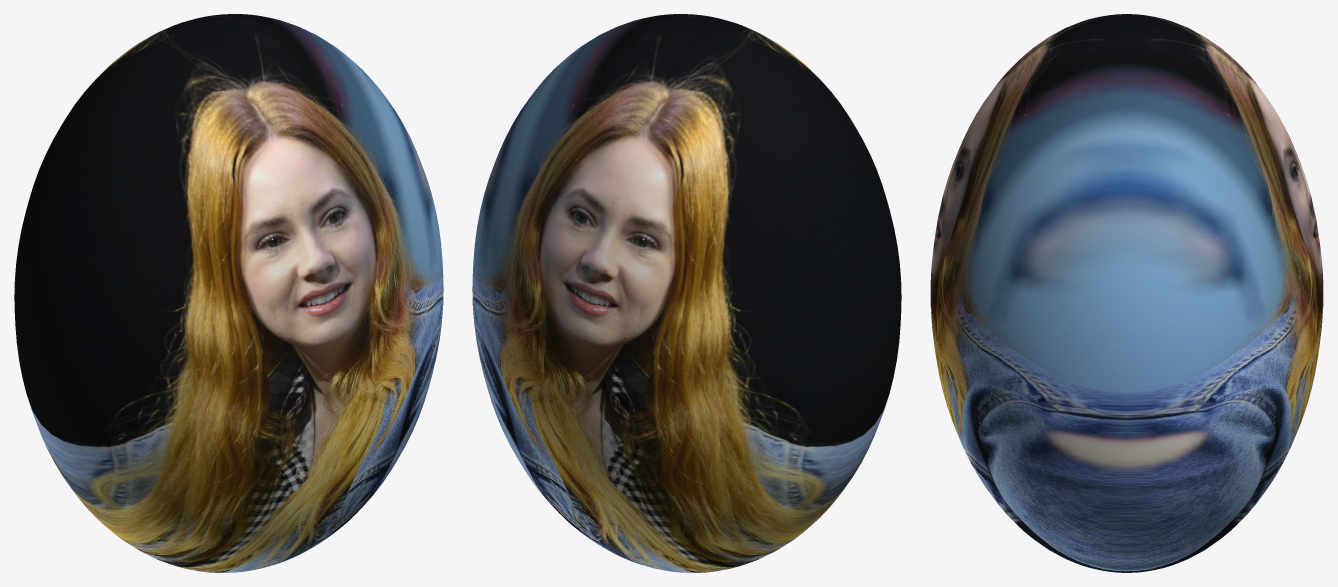
The picture shows the model from 3 angles, left to right: view 1: azimuth 30°, elevation 25°; view 2: azimuth 150°, elevation 25°; view 3: azimuth 270°, elevation 25°; orthographic projection.
Visible parts, largest first — view 1: head; view 2: head; view 3: head.
Part boxes in pixels (x1,y1,x2,y2): head: (14, 14, 443, 572); head: (472, 14, 901, 572); head: (930, 14, 1323, 572).
Size of the model in its own units: 1.5 by 2 by 1.35.
Materials: 1 (1 with a texture image).
